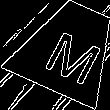M_NE: (34, 16, 103, 82)
